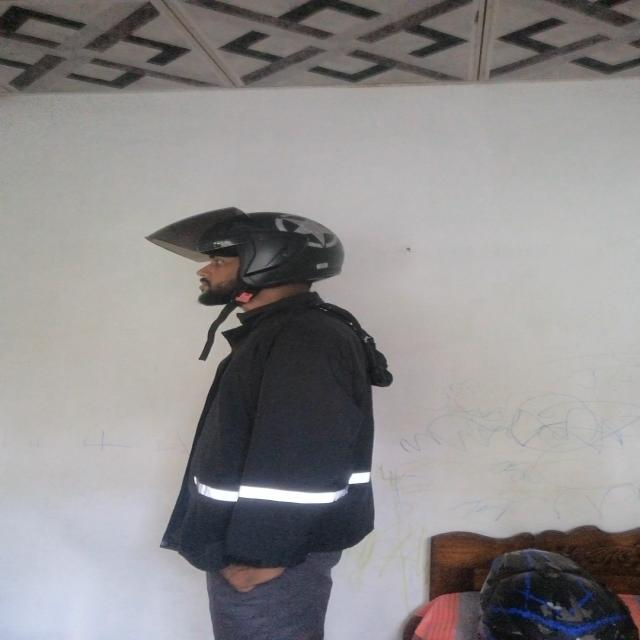Helmet_Wearer: (148, 208, 356, 312)
Jacket_Wearer: (145, 298, 382, 548)
Person: (141, 206, 406, 640)
